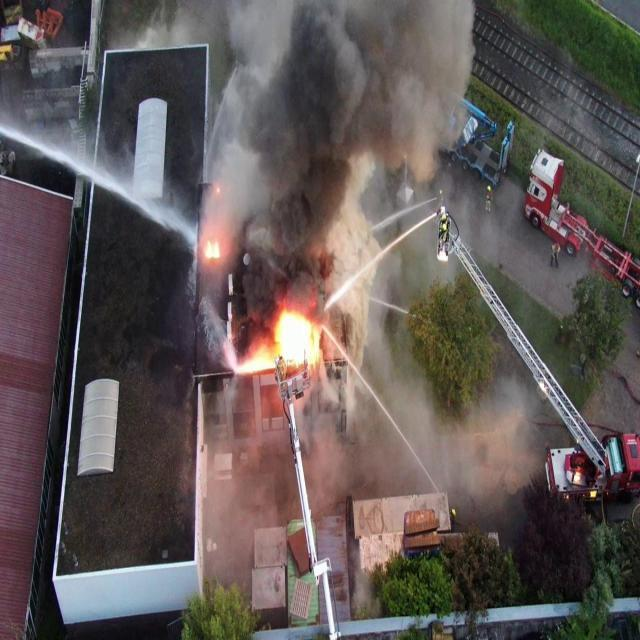Fire: (274, 310, 320, 368), (236, 345, 274, 373), (205, 240, 220, 258), (217, 187, 220, 193)
Smoke: (108, 0, 542, 603)
